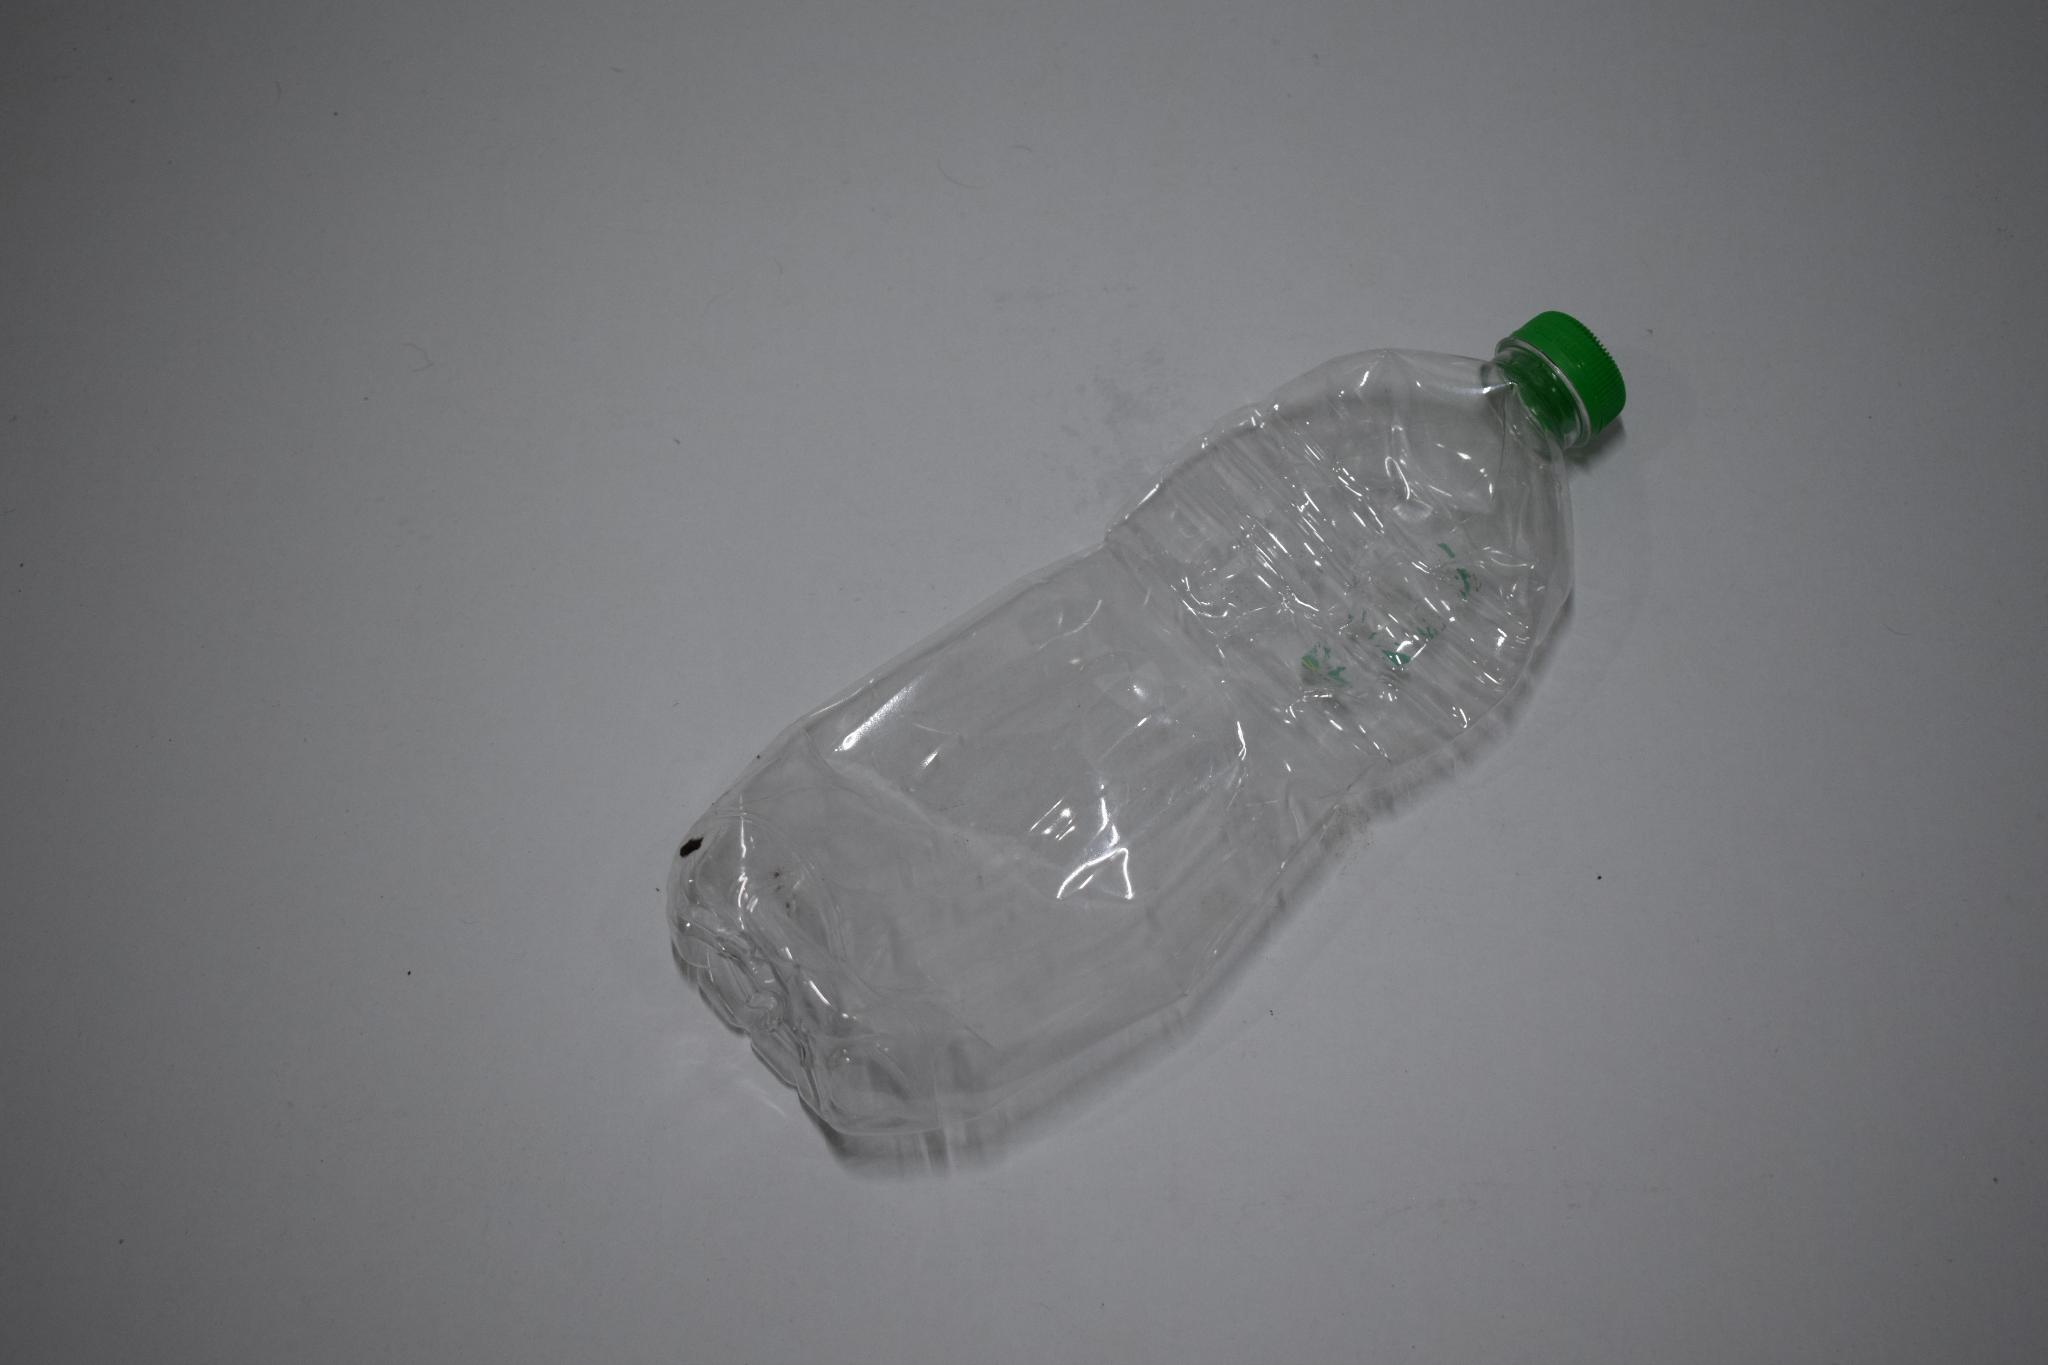bottle: (617, 276, 1777, 1173)
